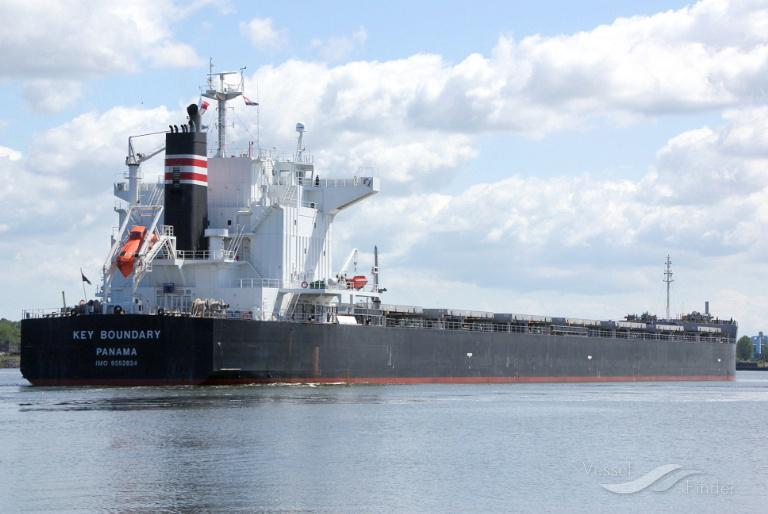OCR: (72, 327, 166, 369)
